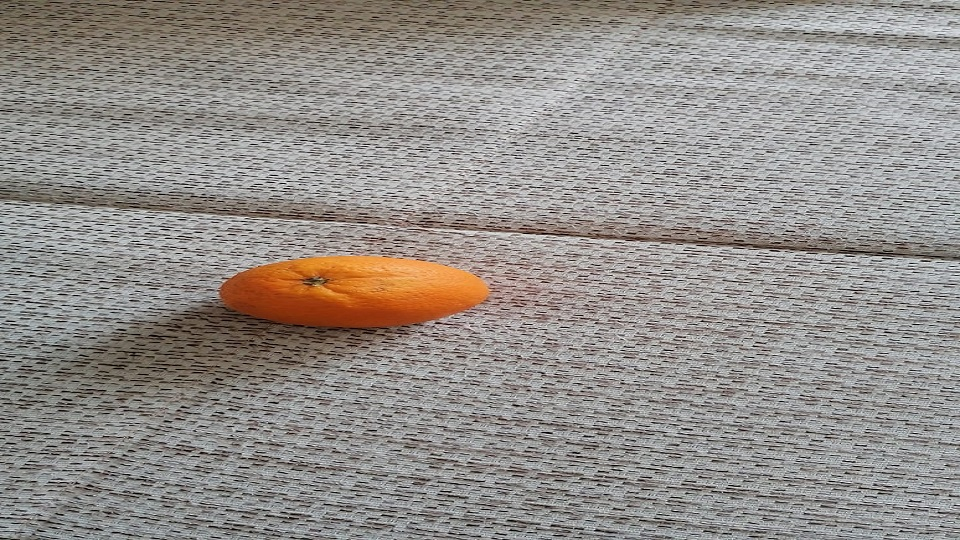portakal: (219, 255, 492, 330)
